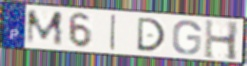6: (68, 11, 94, 50)
D: (136, 16, 167, 53)
G: (171, 19, 203, 56)
H: (203, 18, 241, 62)
I: (109, 13, 118, 52)
M: (25, 9, 65, 47)
